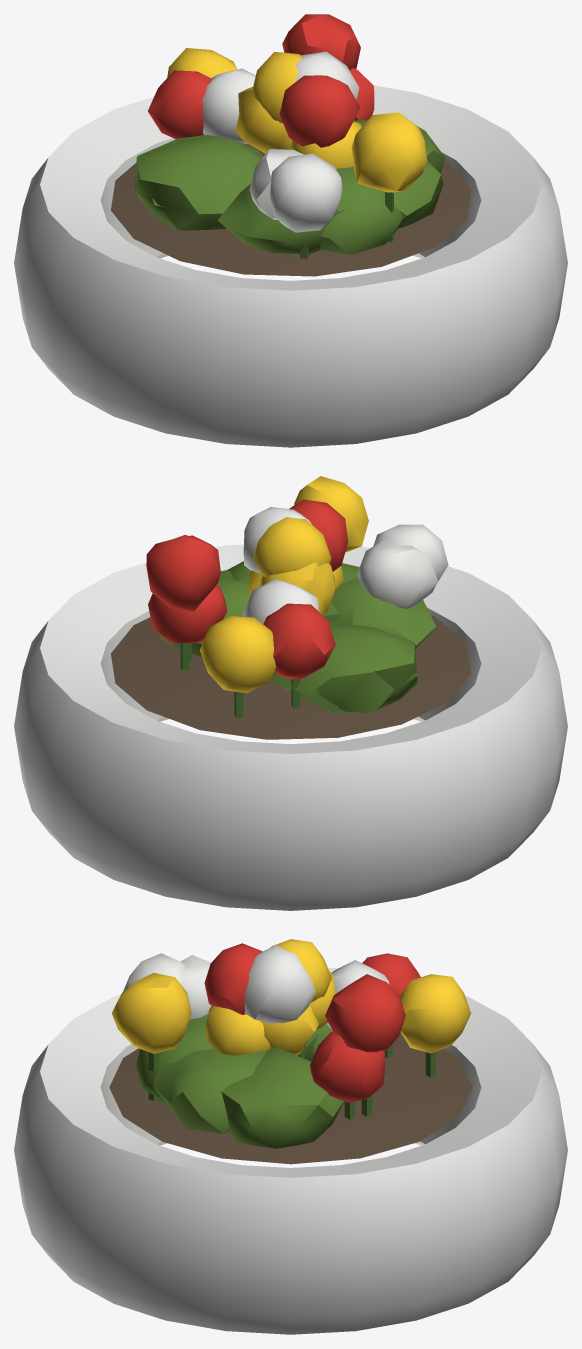
The model's file is EN_Yard_TireFlowerbed.fbx.
3 views of the same model, one above another, from view 1: azimuth 30°, elevation 25°; view 2: azimuth 150°, elevation 25°; view 3: azimuth 270°, elevation 25° (orthographic).
Parts seen in each view (by area): view 1: EN_Yard_TireFlowerbed_Mesh; view 2: EN_Yard_TireFlowerbed_Mesh; view 3: EN_Yard_TireFlowerbed_Mesh.
Boxes of the visible parts, x1,y1,x2,y2 form: EN_Yard_TireFlowerbed_Mesh: [14, 14, 567, 447]; EN_Yard_TireFlowerbed_Mesh: [14, 476, 567, 910]; EN_Yard_TireFlowerbed_Mesh: [14, 939, 567, 1334].
Size of the model in its own units: 0.64 by 0.3651 by 0.64.
